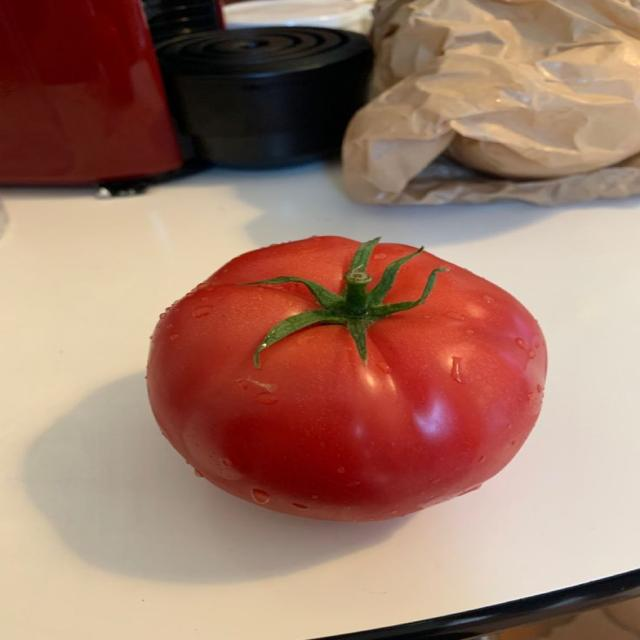tomato: (147, 237, 546, 520)
